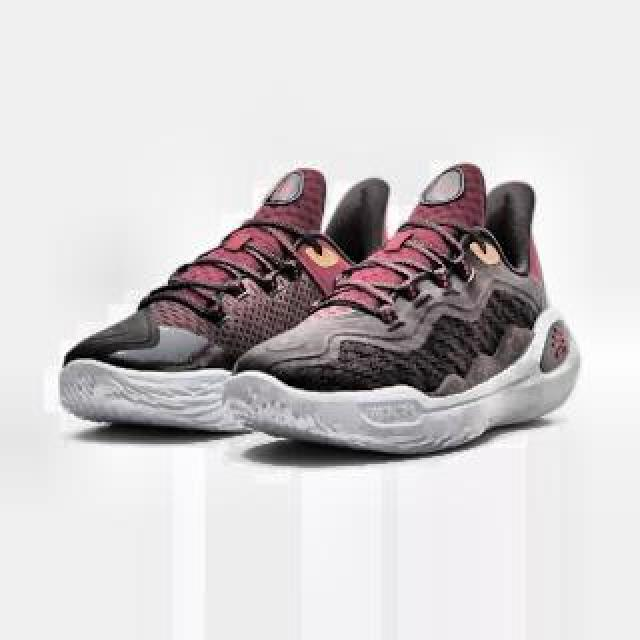shoe: (227, 163, 581, 455), (61, 168, 419, 432)
